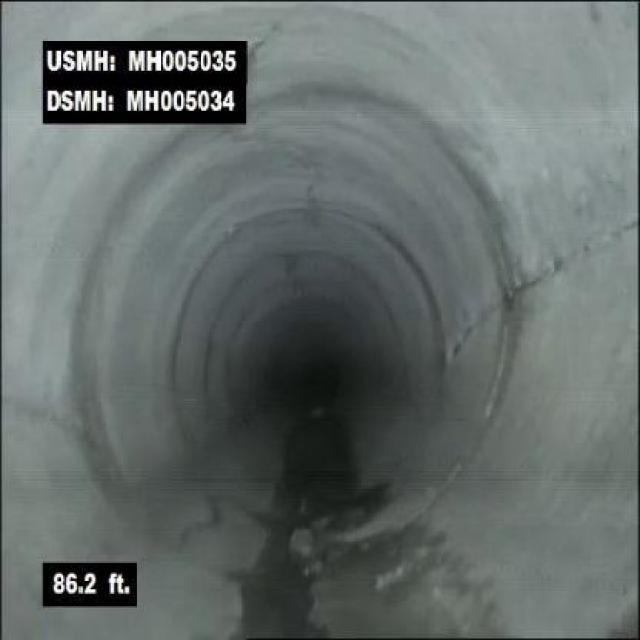Buckling: (284, 521, 356, 634)
Crack: (503, 218, 639, 294), (169, 490, 231, 564), (249, 23, 294, 65)
